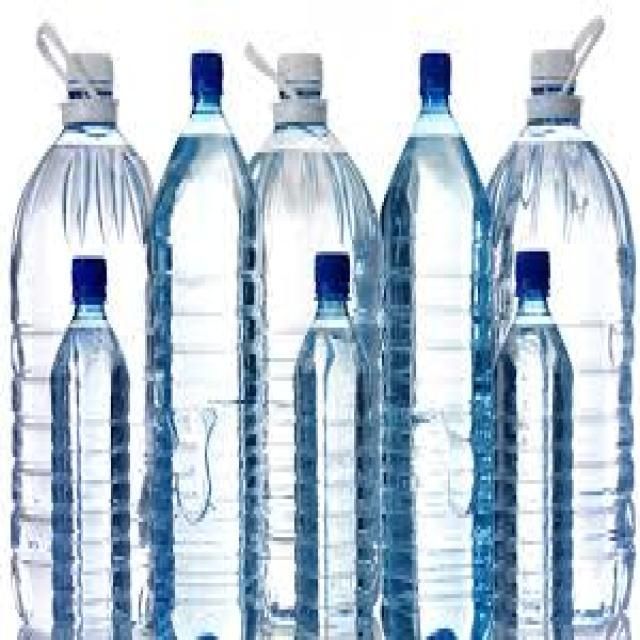bottle: (347, 42, 640, 640), (126, 45, 273, 640)
